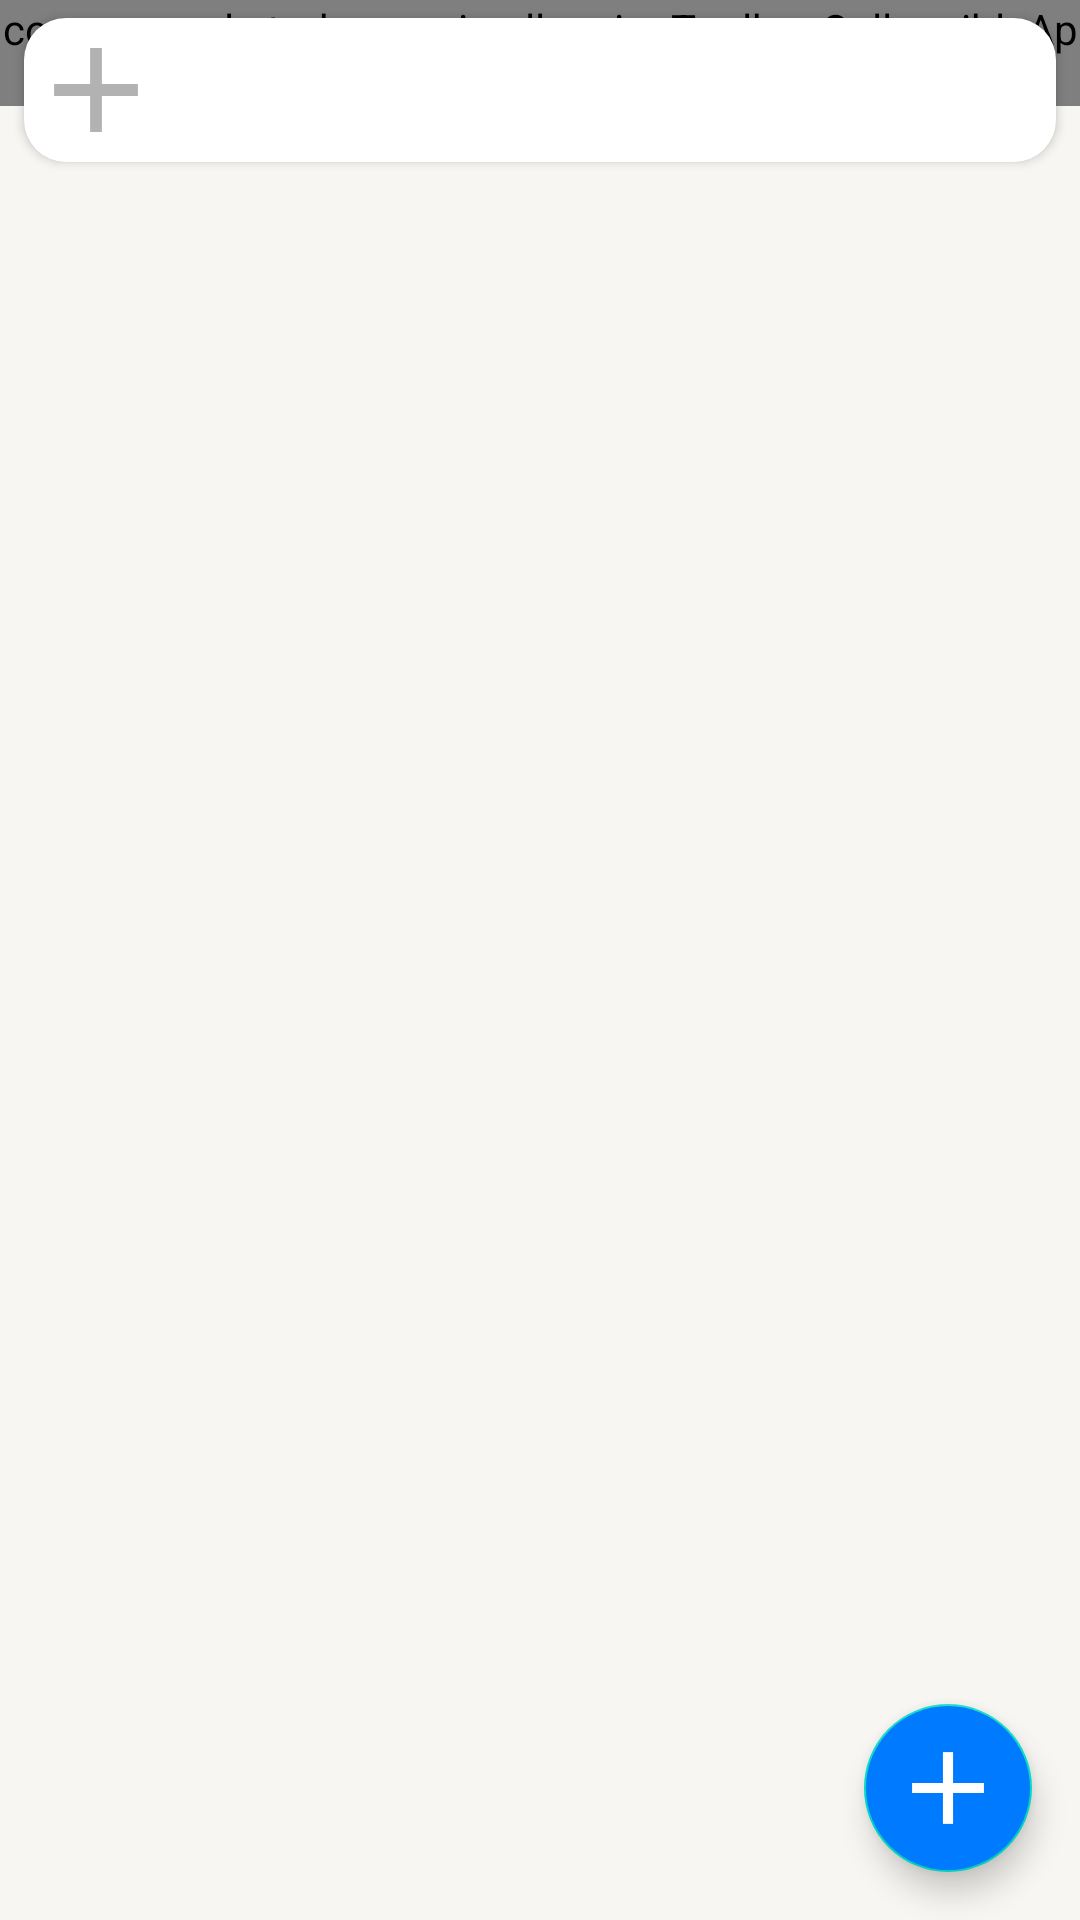

Point at icon controls on the screen. Image size 1080 x 1920, points as (x,y).
add: (96,90), (948,1788)
